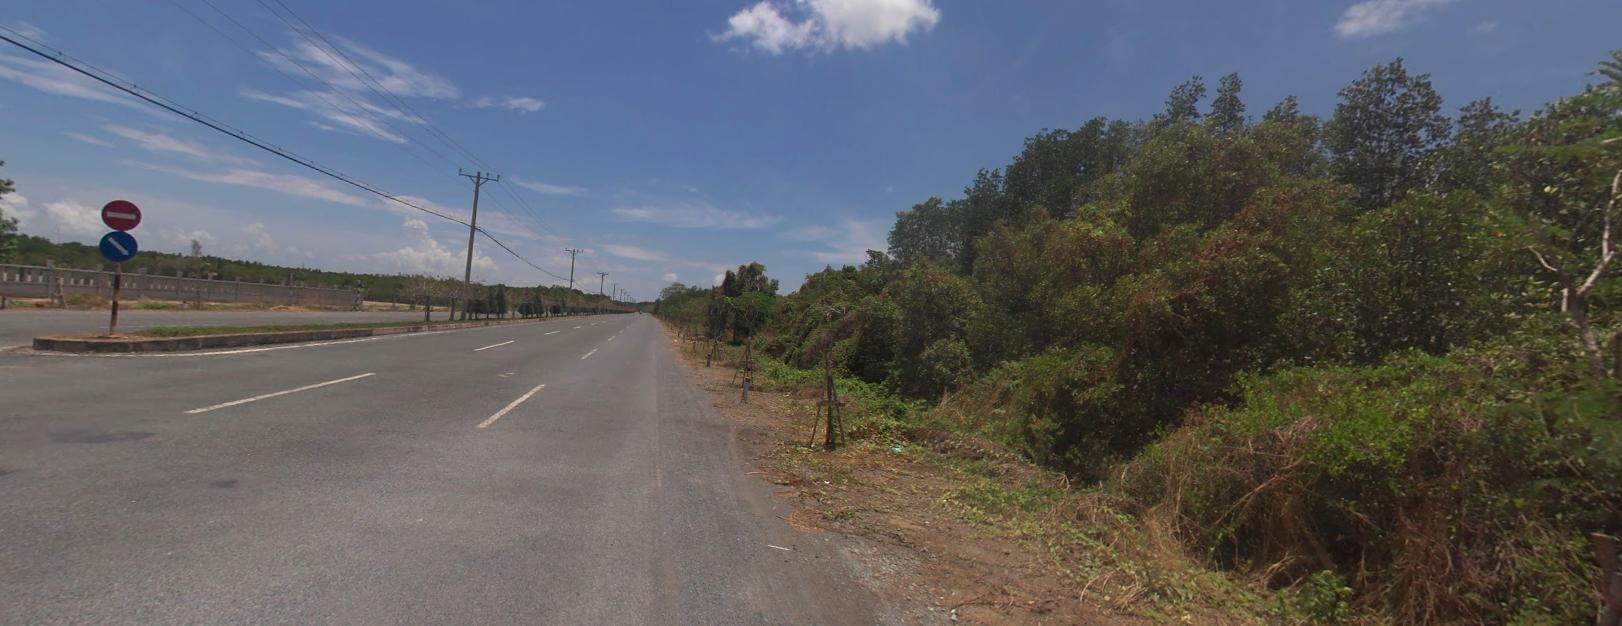Cam nguoc chieu: (101, 196, 141, 228)
Hieu lenh: (99, 230, 137, 260)
